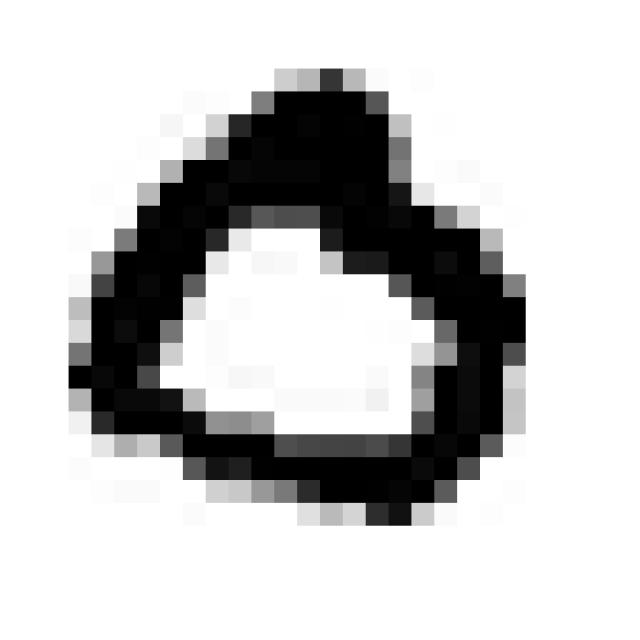5 -five-: (46, 50, 543, 542)
